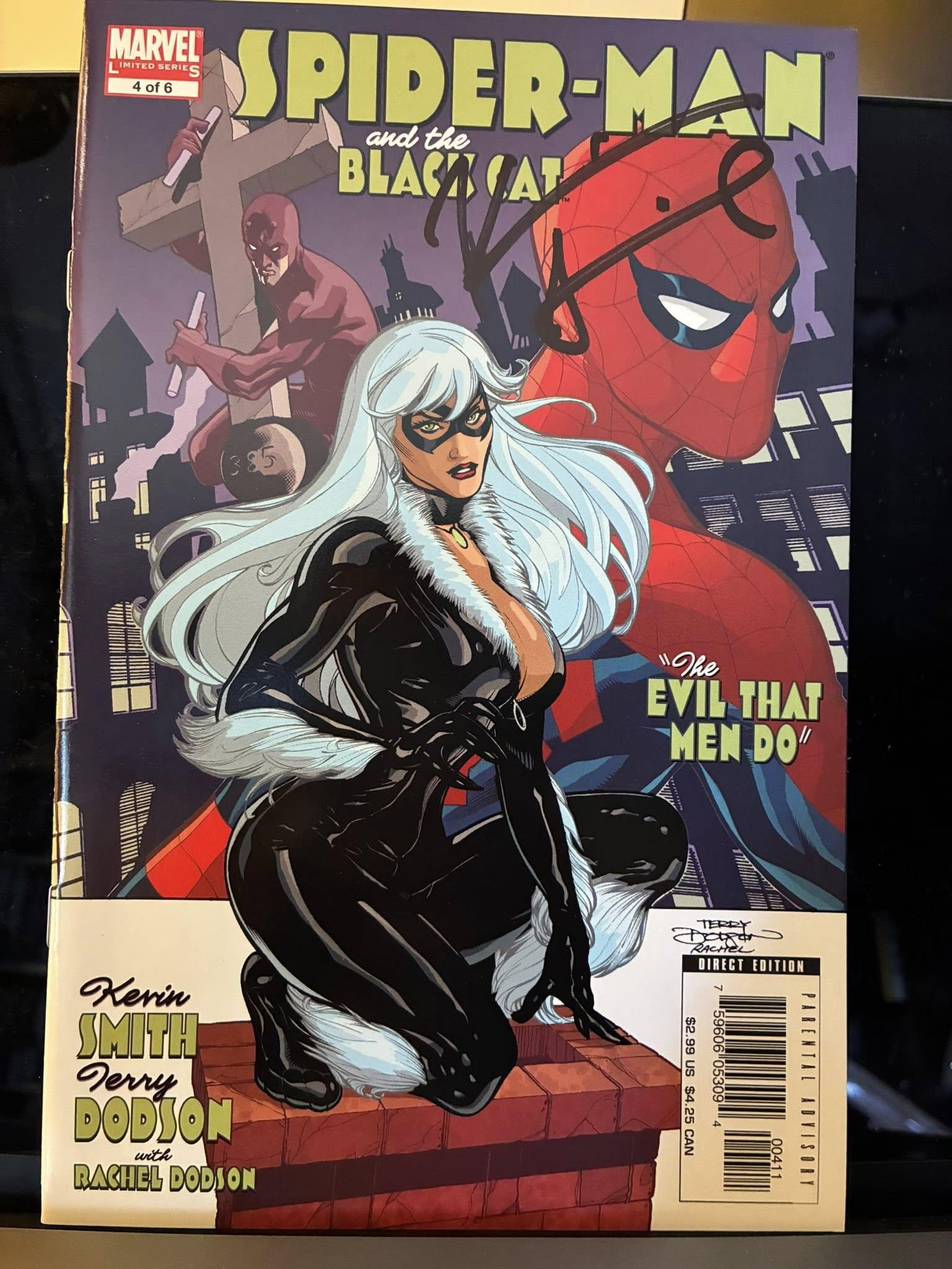comic: (42, 0, 864, 1240)
